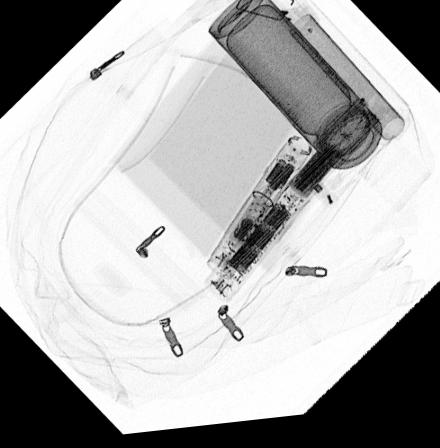Baton: (203, 104, 382, 309), (205, 140, 312, 285)
